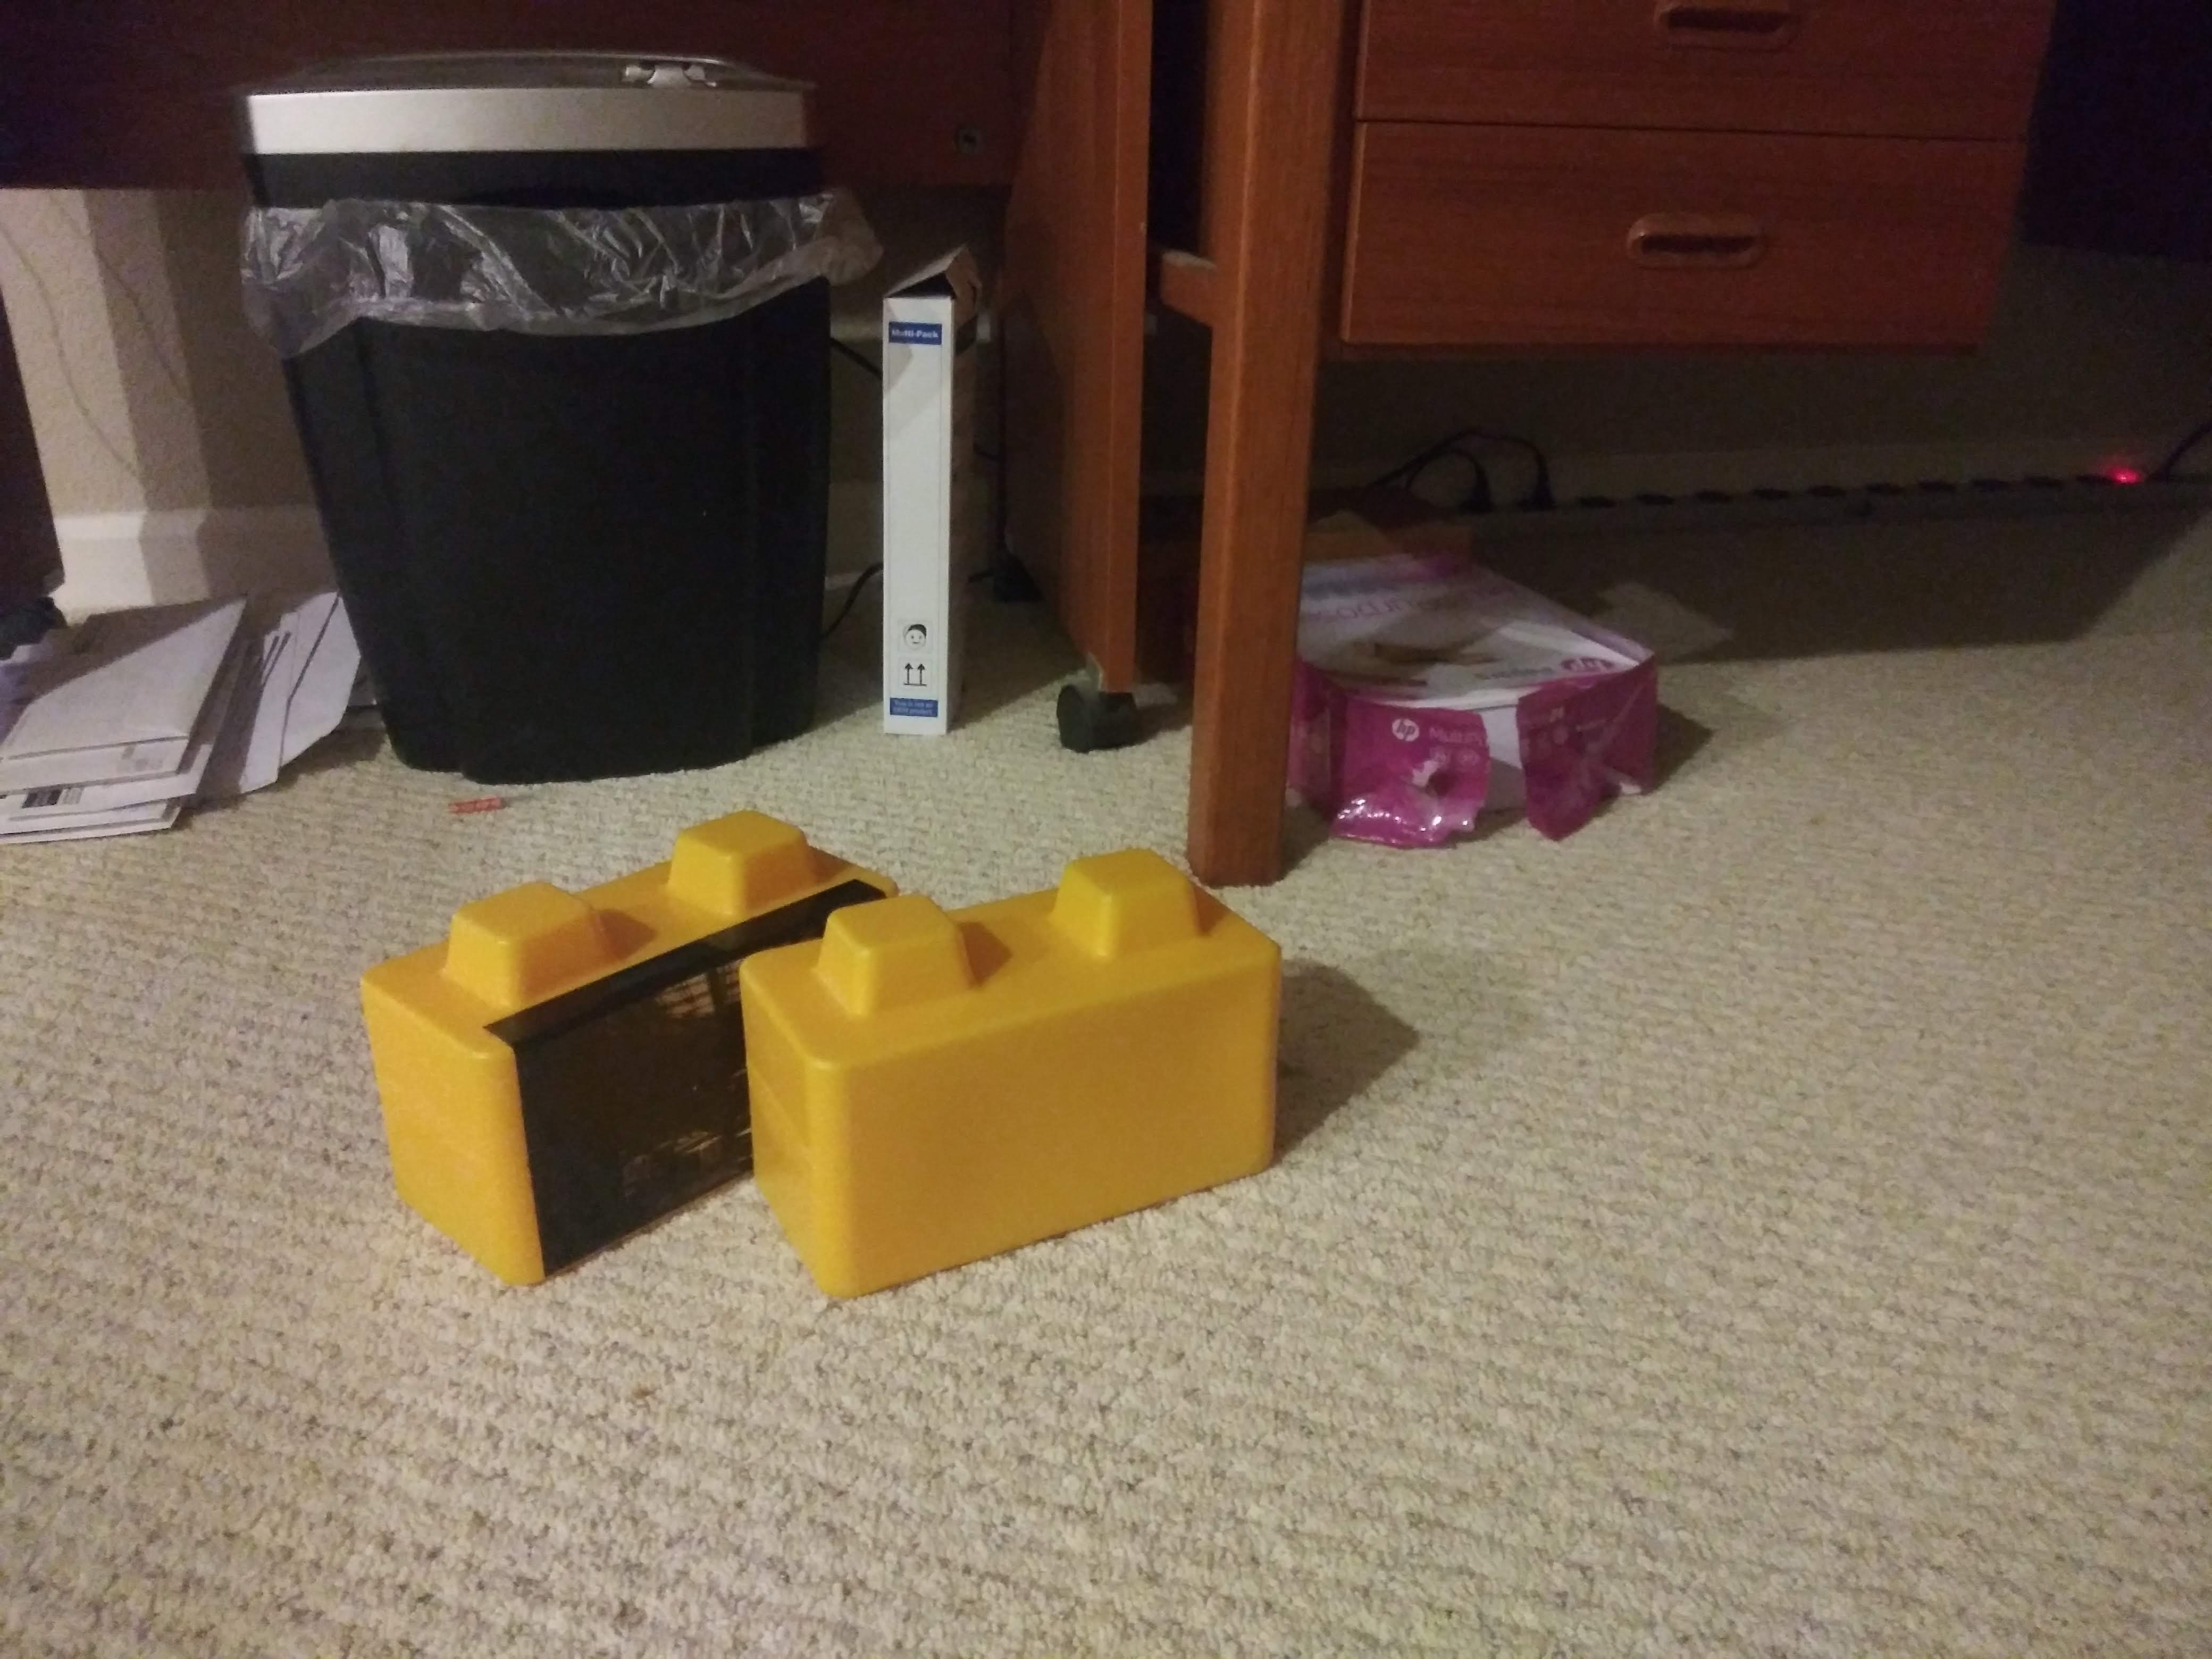skystone: (390, 924, 737, 1229)
stone: (765, 918, 1289, 1229)
